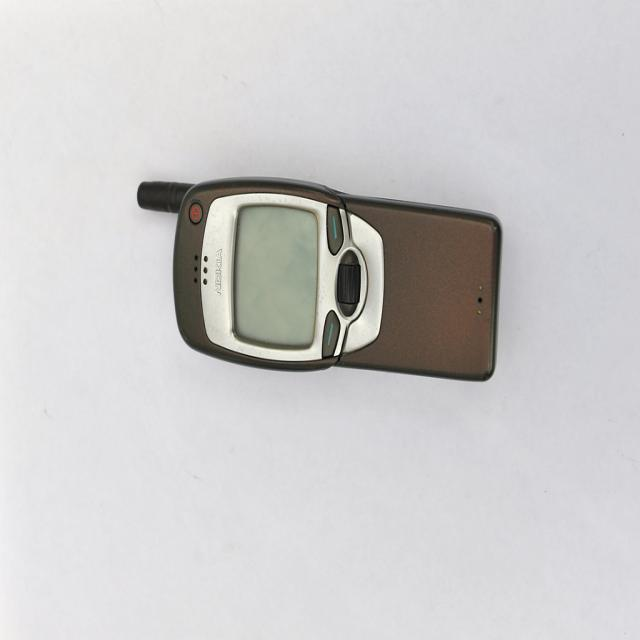Mobile-phone: (135, 176, 502, 384)
